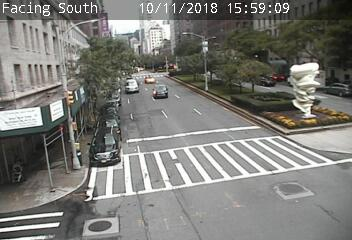car: (153, 84, 167, 99), (144, 75, 155, 83)
